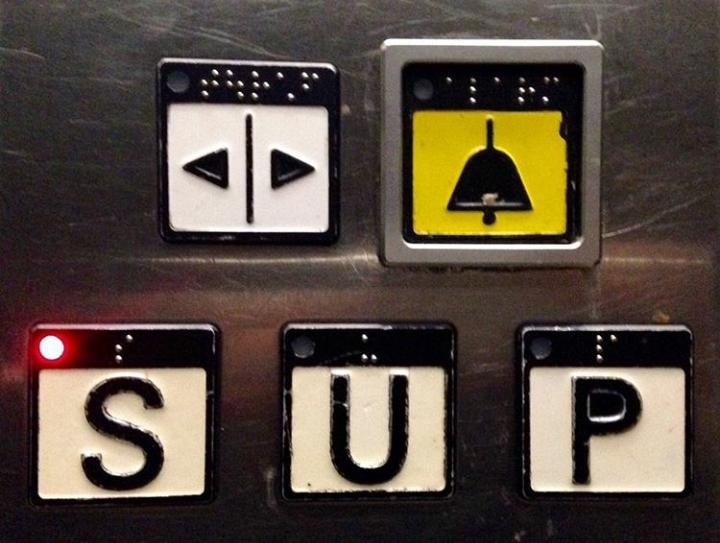P: (516, 323, 695, 499)
S: (28, 320, 219, 504)
U: (276, 319, 457, 507)
alarm: (376, 37, 602, 268)
open: (154, 54, 342, 247)
